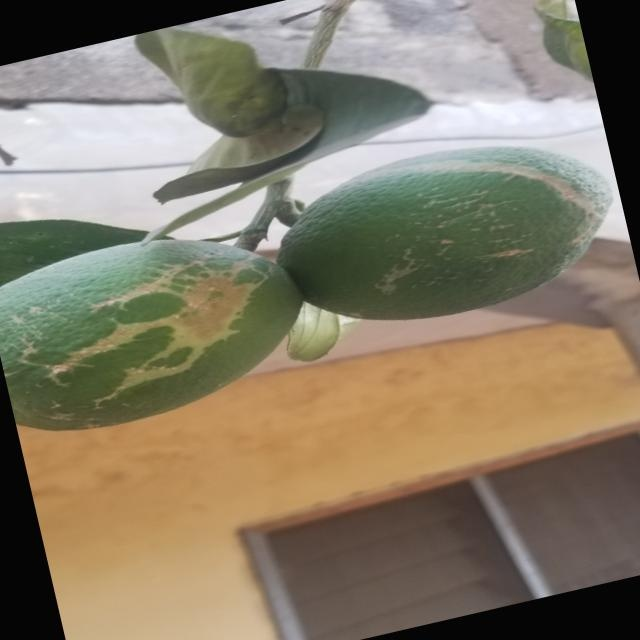agrume: (258, 120, 622, 352), (0, 207, 318, 440)
